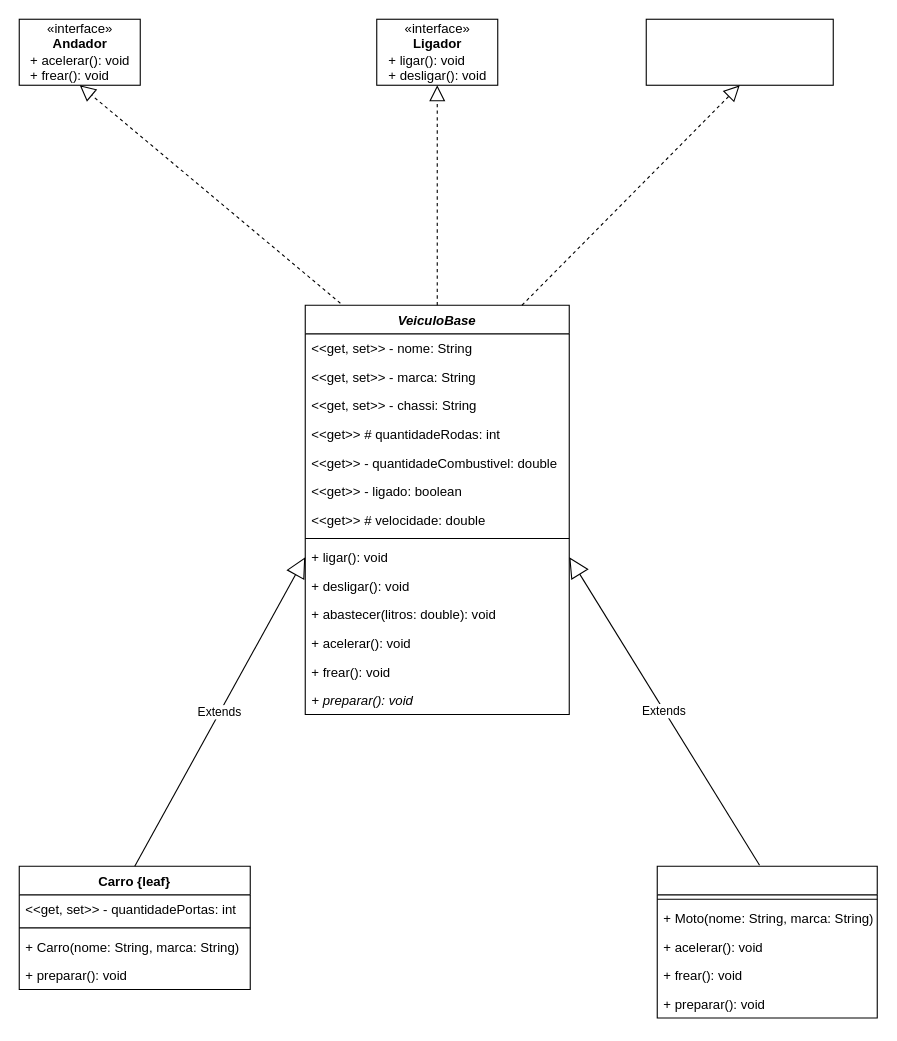
The diagram is 897 pixels wide and 1041 high, and some of its shapes have lost their labels. Here are the shapes that lost their labels. From the top down, the box of each, then its label:
(645, 18, 833, 85): «interface» Veiculo + abastecer(litros: double): void + preparar(): void
(656, 865, 877, 1018): Moto {leaf}
